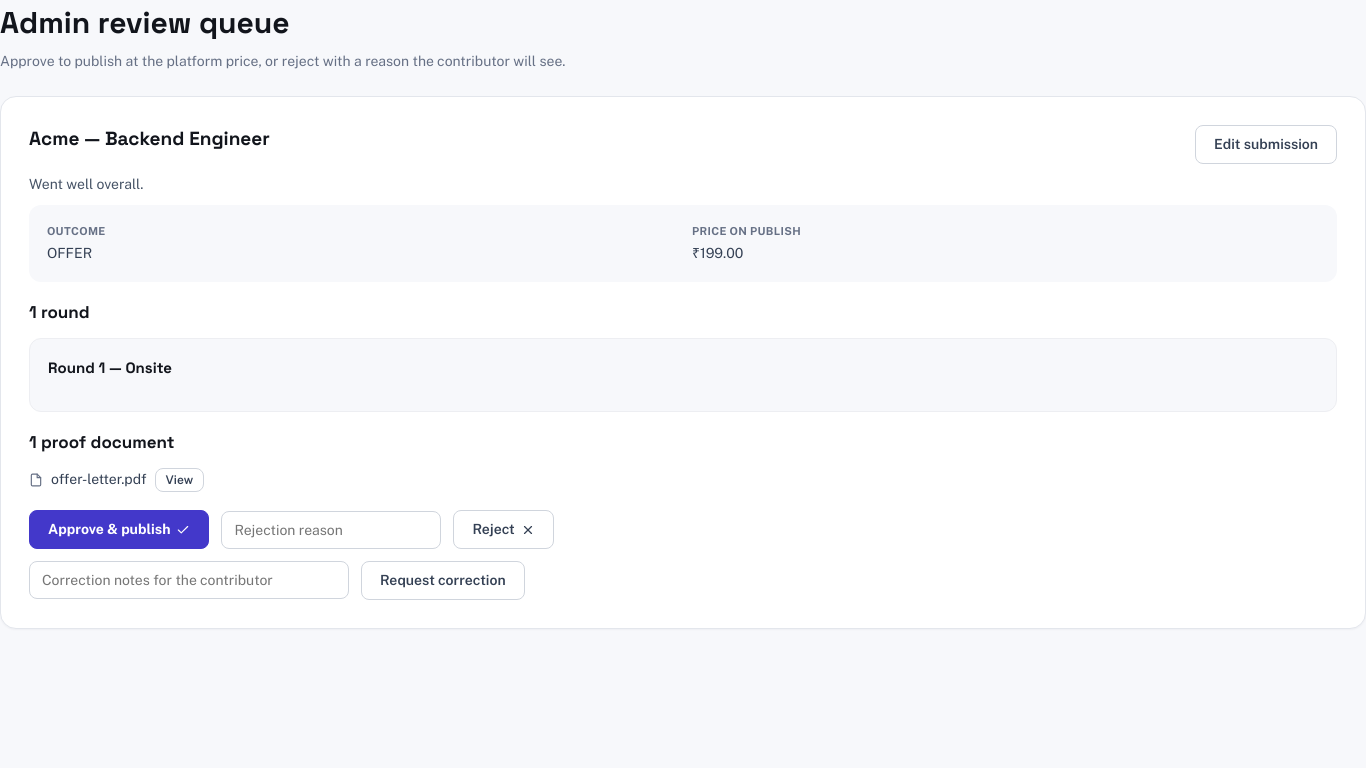
it: AdminReviewQueue › cancelling the approval confirmation leaves the submission pending
Expected: the text "Acme — Backend Engineer" is shown, [29,125,270,154]
Click the button "Approve & publish": (119, 530) [29,510,209,549]
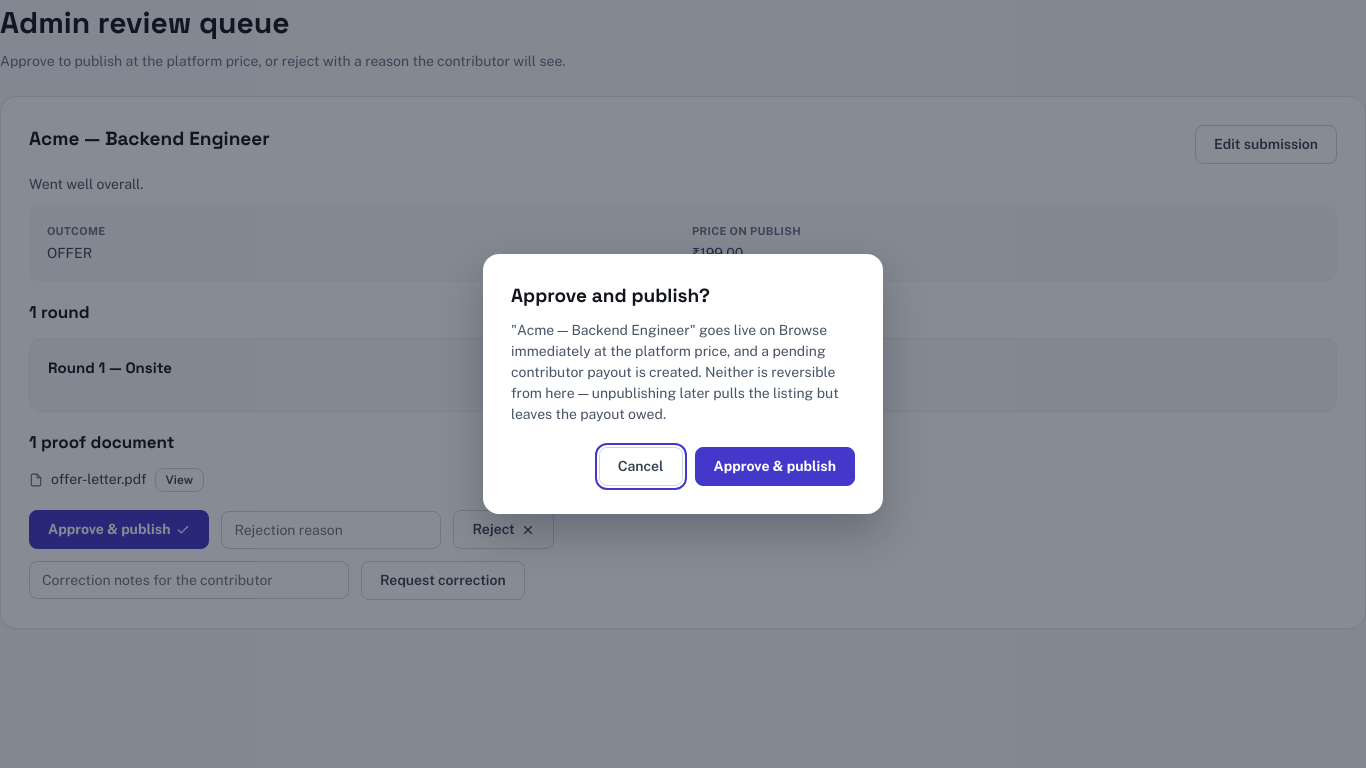
Click the button "Cancel": (641, 467) [599,447,683,486]
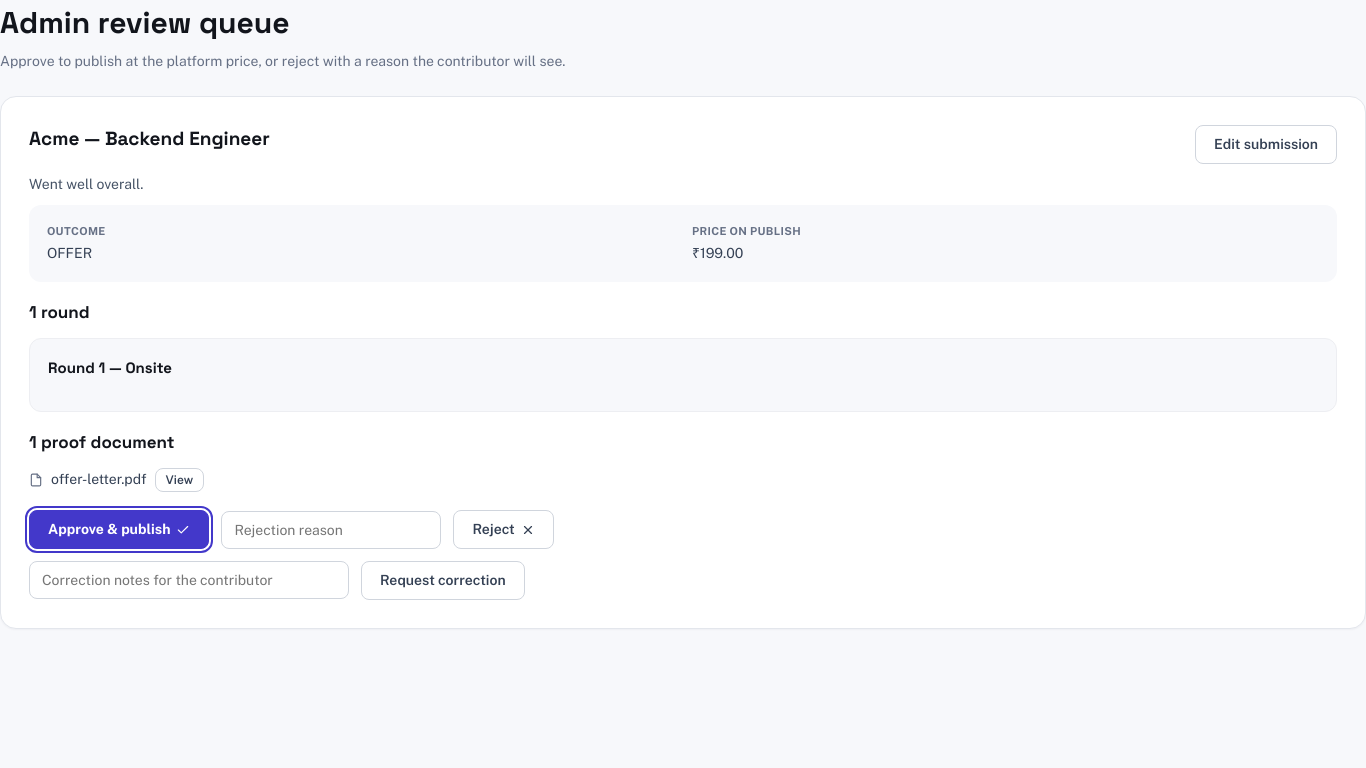
Now the dialog is gone
